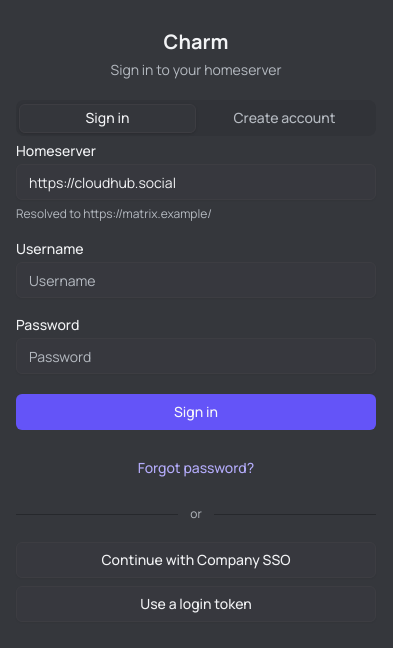
Test: LoginScreen login choices › does not create an SSO attempt when the browser blocks the popup
The image size is (393, 648).
Click the button "Continue with Company SSO": (196, 560) [16,542,376,578]
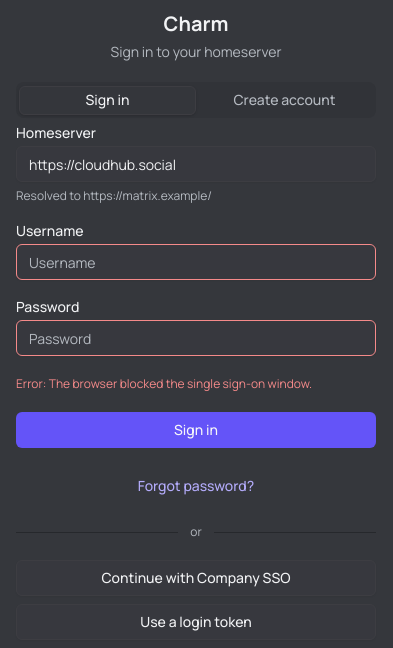
Check: the text "Error: The browser blocked the single sign-on window." is shown, box [16,375,312,392]
